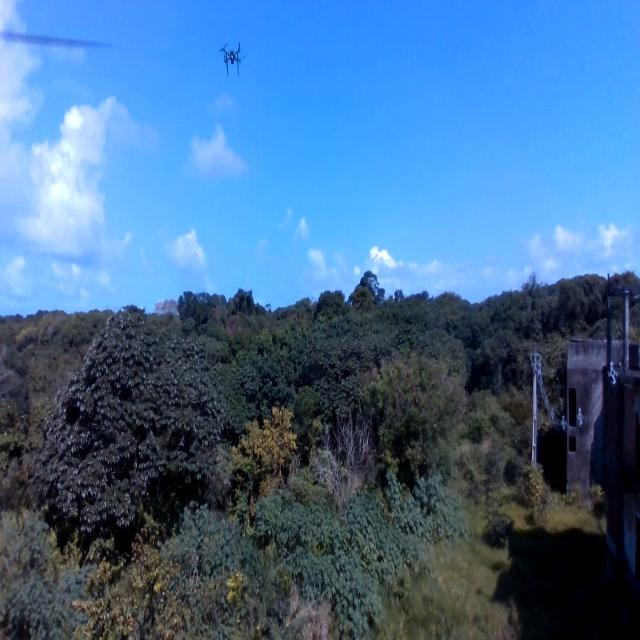-uav-: (217, 34, 249, 79)
